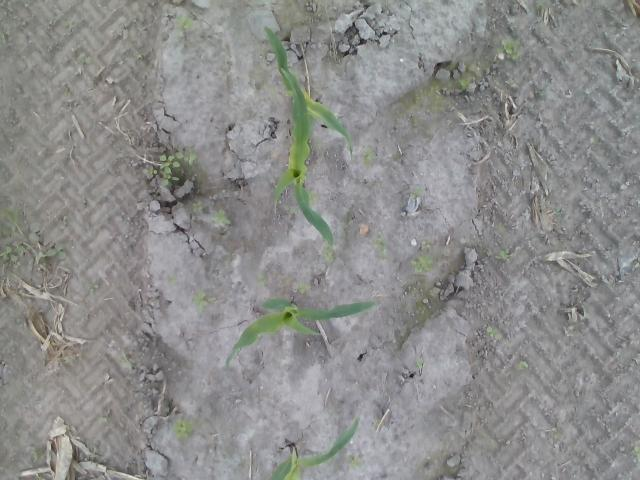Maize: (260, 21, 356, 160), (272, 65, 334, 246), (225, 296, 376, 364), (270, 416, 364, 480)
Weeds: (140, 148, 198, 186), (0, 204, 24, 268), (31, 244, 65, 262), (496, 38, 520, 62), (408, 252, 433, 272), (190, 290, 210, 313), (373, 230, 389, 257), (172, 419, 192, 440), (212, 207, 232, 227), (414, 86, 441, 100), (174, 14, 192, 34), (76, 50, 98, 66), (24, 222, 42, 241), (271, 82, 292, 97), (494, 78, 522, 89), (492, 248, 512, 261), (361, 148, 377, 164), (409, 183, 425, 199), (162, 272, 178, 288), (314, 136, 328, 153), (120, 353, 134, 369), (85, 280, 99, 295), (347, 456, 362, 470), (323, 245, 334, 264), (294, 282, 311, 294), (190, 202, 204, 215), (30, 445, 40, 463), (61, 354, 80, 363), (457, 80, 471, 92), (632, 445, 640, 463), (418, 239, 431, 250), (534, 87, 546, 98), (415, 359, 426, 370), (284, 16, 290, 36), (487, 327, 498, 337), (308, 190, 317, 201), (552, 208, 562, 217), (408, 112, 417, 122), (518, 360, 528, 369), (415, 306, 425, 314), (255, 40, 262, 48)
